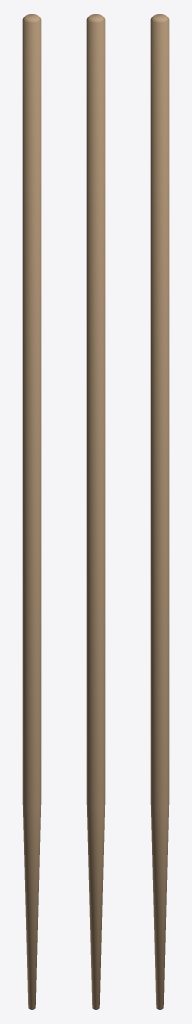
File: chopstick-by-poly-by-google-d3pbfcn9eIl.glb
3 views of the same model, side by side, from view 1: azimuth 30°, elevation 25°; view 2: azimuth 150°, elevation 25°; view 3: azimuth 330°, elevation 25° (orthographic).
Parts seen in each view (by area): view 1: Cylinder; view 2: Cylinder; view 3: Cylinder.
Part boxes in pixels (<box>): Cylinder: <box>22,14,41,1009</box>; Cylinder: <box>86,14,105,1009</box>; Cylinder: <box>150,14,169,1009</box>.
Bounding box in the file's own units: 0.0053 × 0.3203 × 0.00539.
